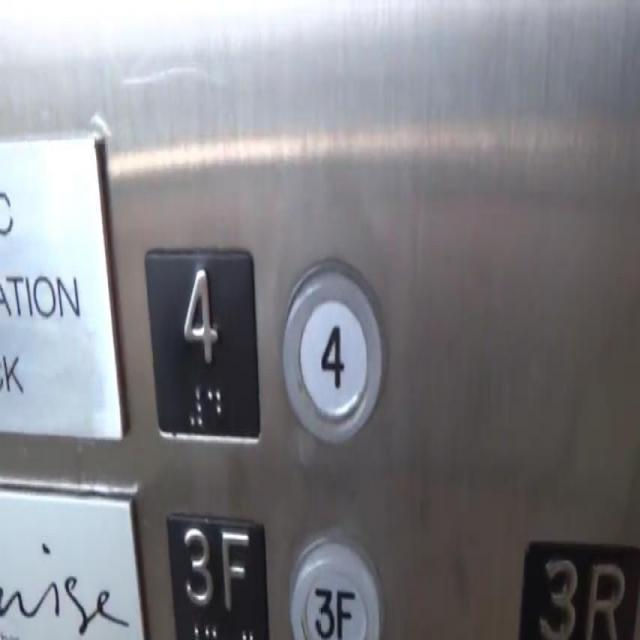3F: (162, 505, 272, 639), (285, 528, 383, 639)
4: (140, 242, 266, 454), (277, 254, 391, 454)
